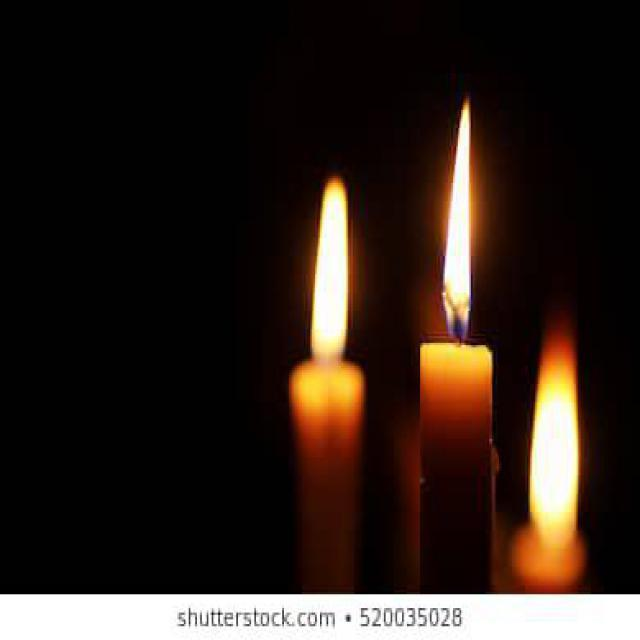Fire: (530, 317, 578, 552), (441, 100, 471, 340), (312, 177, 348, 360)
